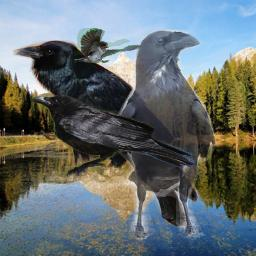Crow: (13, 40, 199, 229), (110, 29, 218, 240), (30, 94, 195, 179)
Swallow: (74, 28, 141, 63)
